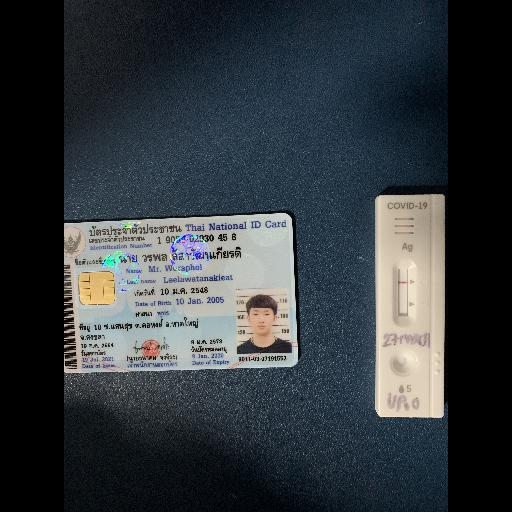Neg: (376, 194, 446, 416)
